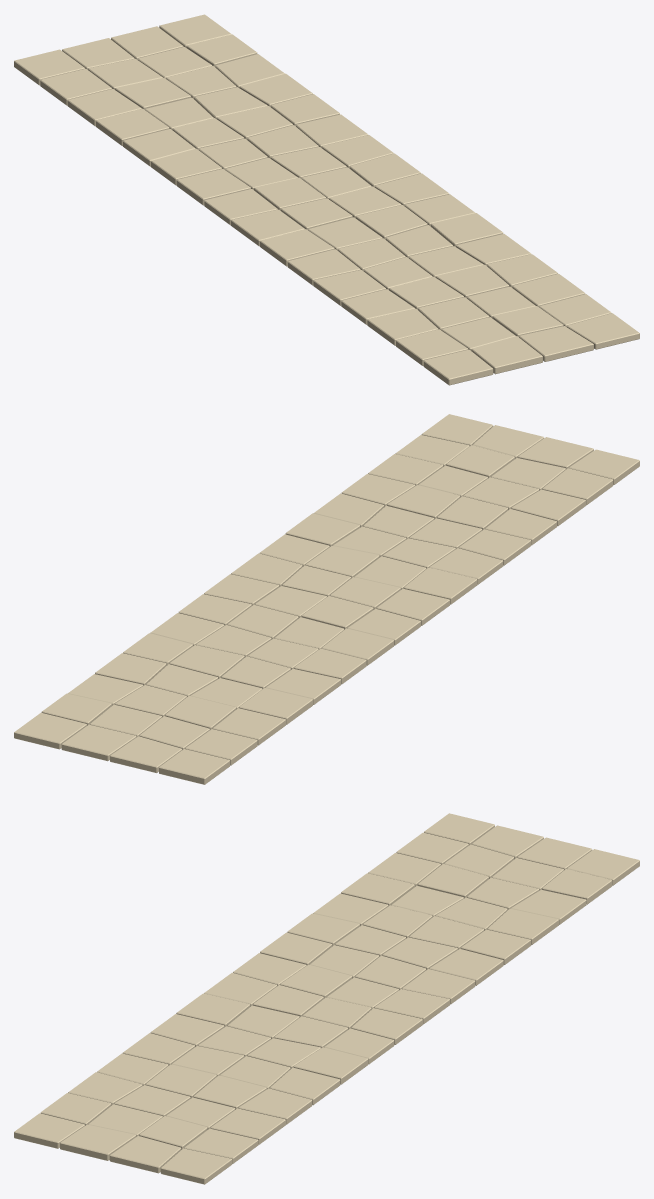
File: Path1.fbx
3 renders of one model, top to bottom at view 1: azimuth 30°, elevation 25°; view 2: azimuth 150°, elevation 25°; view 3: azimuth 330°, elevation 25°, orthographic.
Visible parts, largest first — view 1: Path0_0_0.001; view 2: Path0_0_0.001; view 3: Path0_0_0.001.
Boxes of the visible parts, x1,y1,x2,y2 form: Path0_0_0.001: (14,14,639,385); Path0_0_0.001: (14,414,639,784); Path0_0_0.001: (14,813,639,1184).
Size of the model in its own units: 2383 by 85.57 by 9384.
